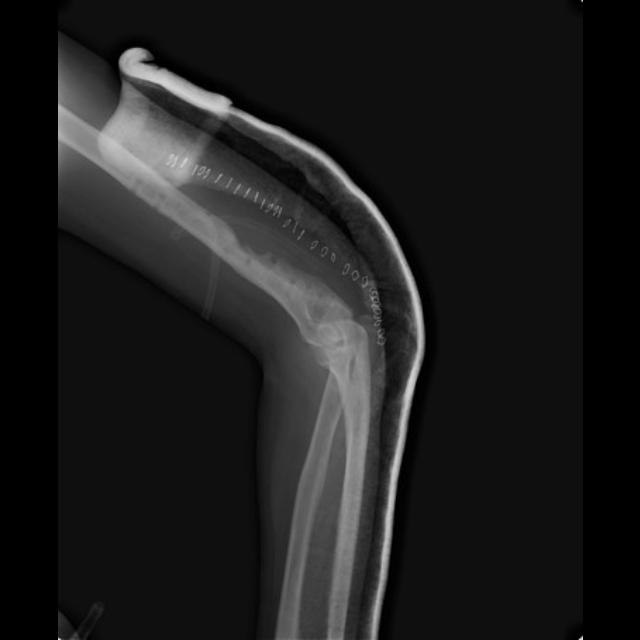Fracture: (221, 220, 295, 271)
